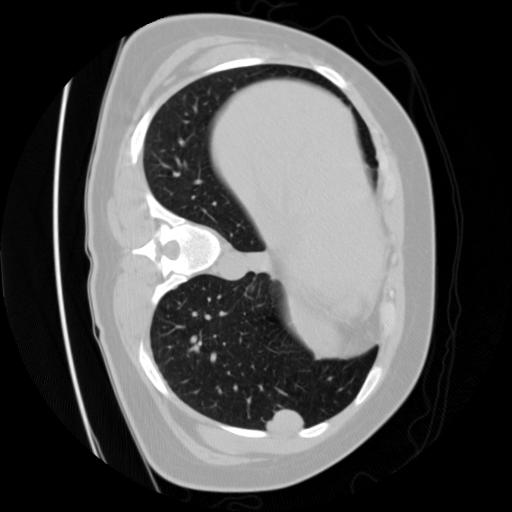nodule: (268, 404, 305, 441)
